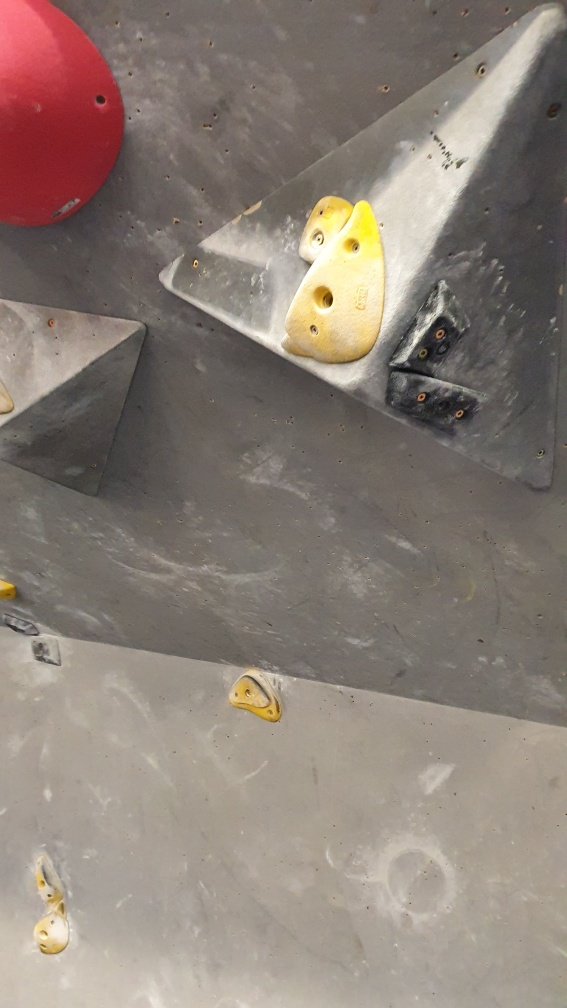Crimp: (384, 367, 490, 442)
